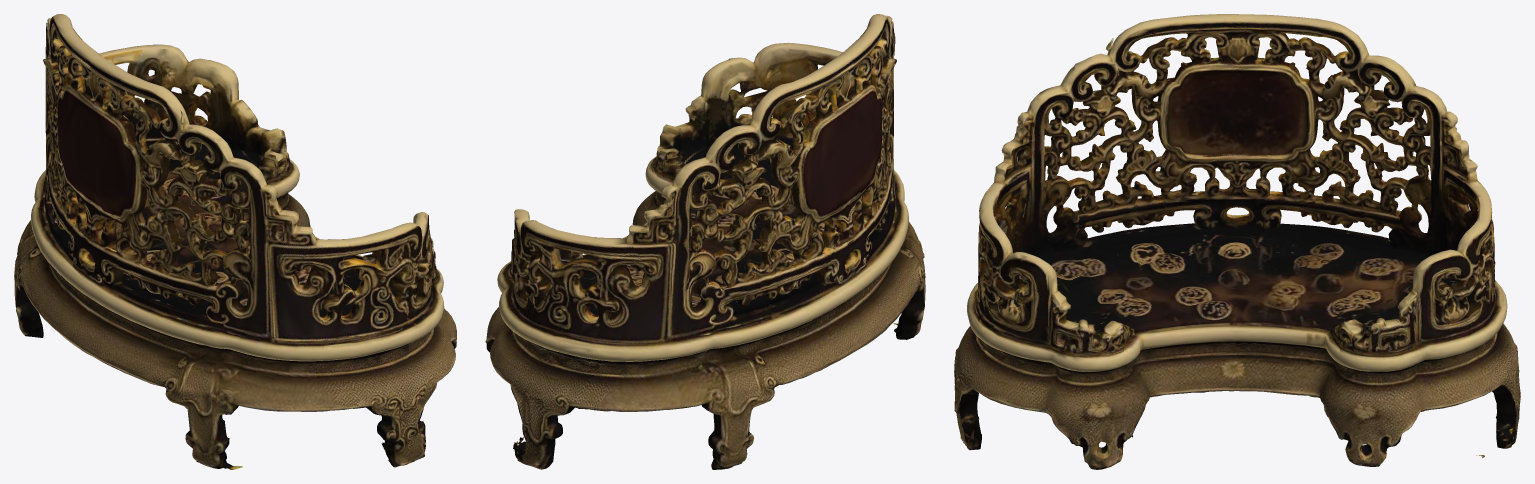
The model's file is throne-general.glb.
3 views of the same model, side by side, from view 1: azimuth 30°, elevation 25°; view 2: azimuth 150°, elevation 25°; view 3: azimuth 270°, elevation 25° (orthographic). The views are drawn at different scales.
Parts seen in each view (by area): view 1: tripo_node_0e66528c-7550-4c55-a9aa-c79b8f0f2cea; view 2: tripo_node_0e66528c-7550-4c55-a9aa-c79b8f0f2cea; view 3: tripo_node_0e66528c-7550-4c55-a9aa-c79b8f0f2cea.
Part boxes in pixels (bbox=[...]): tripo_node_0e66528c-7550-4c55-a9aa-c79b8f0f2cea: bbox=[14, 14, 456, 469]; tripo_node_0e66528c-7550-4c55-a9aa-c79b8f0f2cea: bbox=[485, 14, 925, 469]; tripo_node_0e66528c-7550-4c55-a9aa-c79b8f0f2cea: bbox=[954, 14, 1520, 469].
Bounding box in the file's own units: 0.6143 × 0.6774 × 0.9999.
1 material, 1 textured.
